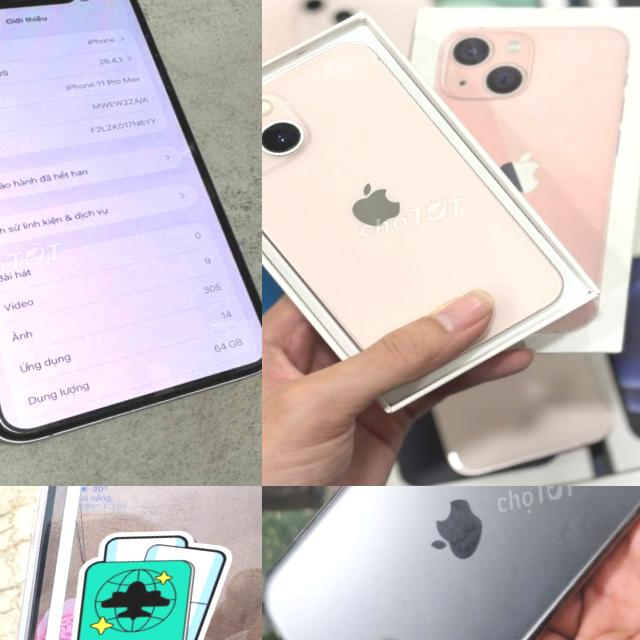gen_11: (0, 0, 262, 460), (263, 486, 640, 640), (0, 486, 262, 640)
gen_12_13: (262, 5, 584, 437)
